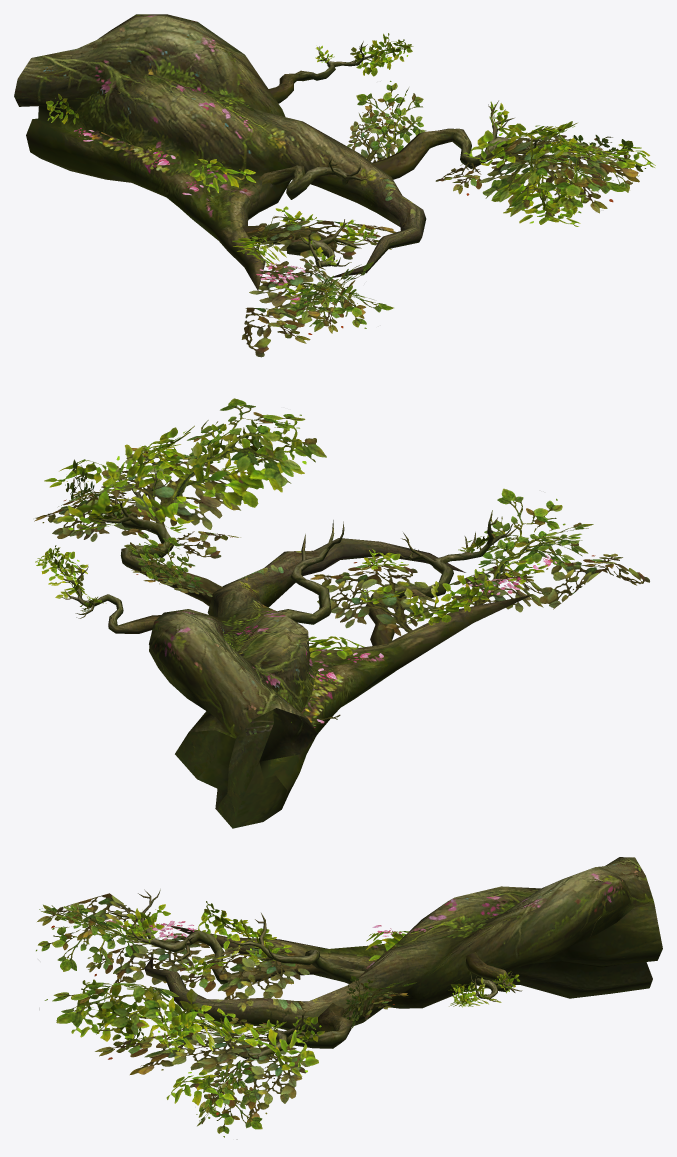
The model's file is S_Tree_Green125_A1.FBX.
The picture shows the model from 3 angles, top to bottom: view 1: azimuth 30°, elevation 25°; view 2: azimuth 150°, elevation 25°; view 3: azimuth 270°, elevation 25°; orthographic projection. The views are drawn at different scales.
Visible parts, largest first — view 1: S_Tree_Green125_A1; view 2: S_Tree_Green125_A1; view 3: S_Tree_Green125_A1.
Boxes of the visible parts, bbox=[...] form: S_Tree_Green125_A1: bbox=[14, 14, 655, 357]; S_Tree_Green125_A1: bbox=[34, 398, 649, 828]; S_Tree_Green125_A1: bbox=[36, 857, 662, 1139].
Bounding box in the file's own units: 363 × 104 × 405.
